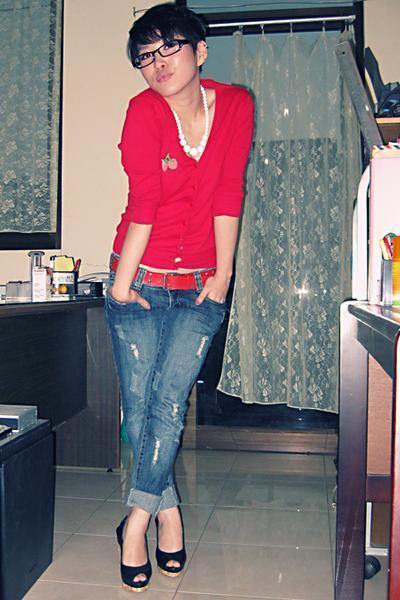jacket: (113, 80, 253, 275)
pants: (96, 276, 224, 513)
shoe: (118, 540, 185, 587)
